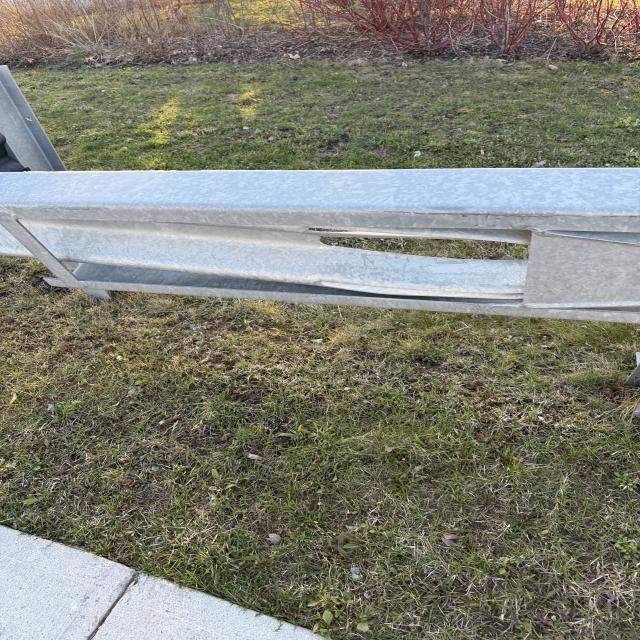Guard rail: (4, 148, 614, 302)
